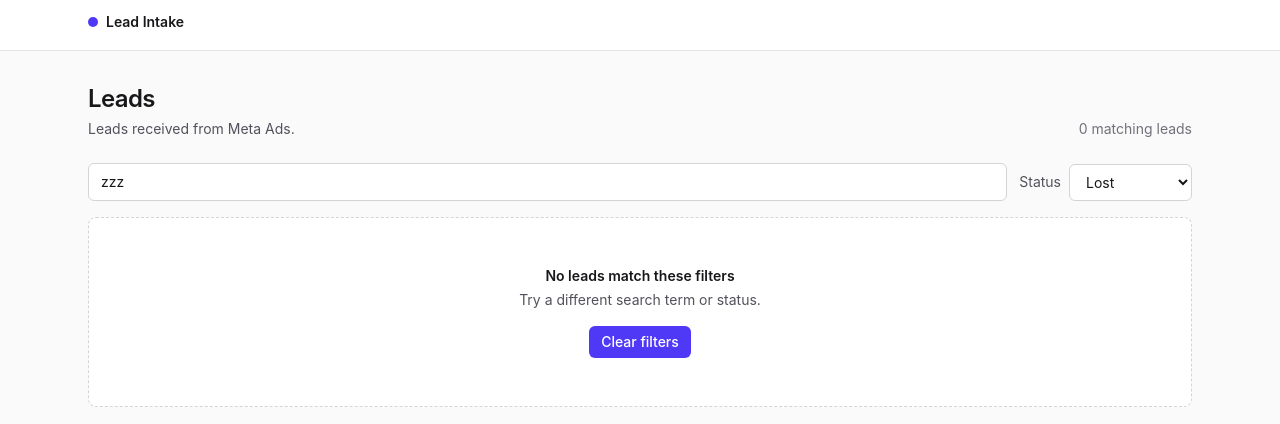
Test: lead list: loading, content and empty states › says "No leads match" for an empty filtered result, and Clear filters resets the view
The image size is (1280, 424).
Expected: the heading "No leads match these filters" is shown, [545, 267, 735, 284]
Click the button "Clear filters" at (640,342), box [589, 326, 691, 358]
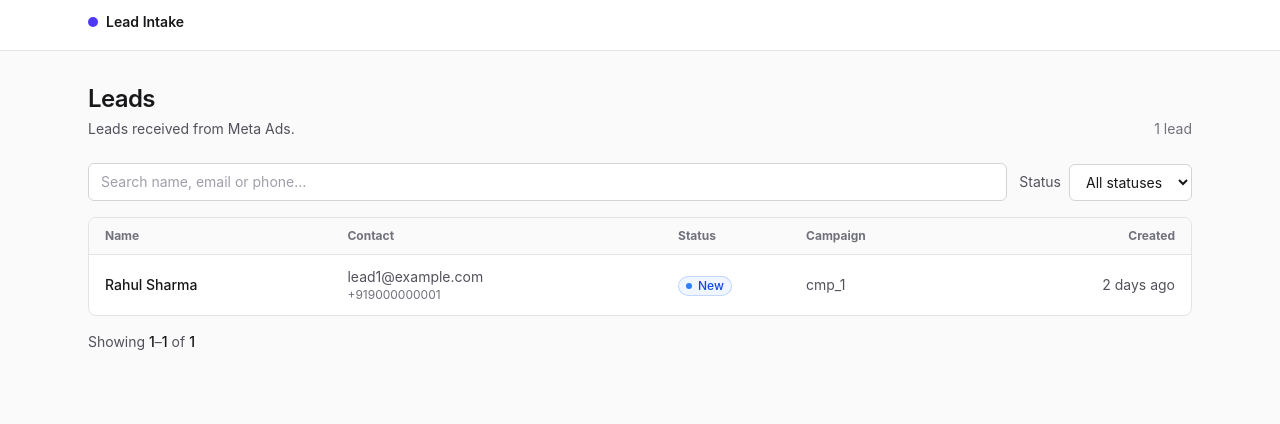
Result: the search field is empty at [88, 163, 1007, 201]
